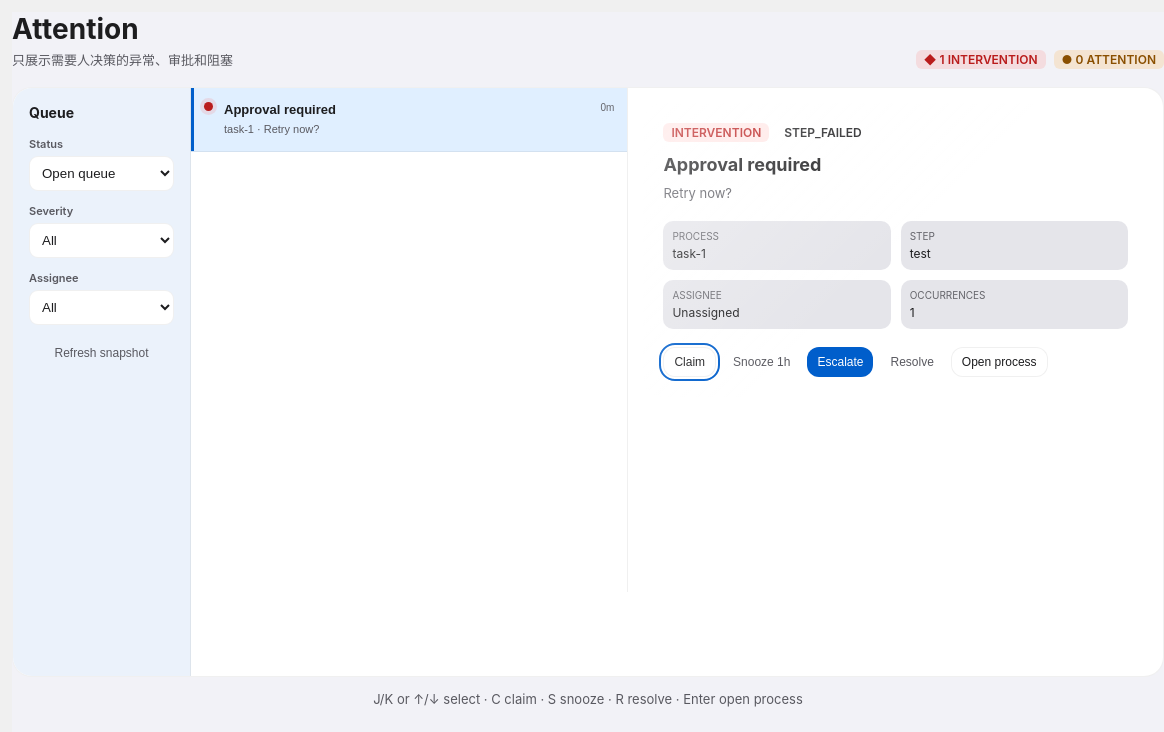
Scenario: AttentionInbox component › keeps a conflict visible while restoring the authoritative item and focus
Expected: the text "Retry now?" is shown, [663, 185, 732, 201]
Click the button "Claim" at (690, 362), box [663, 347, 716, 377]
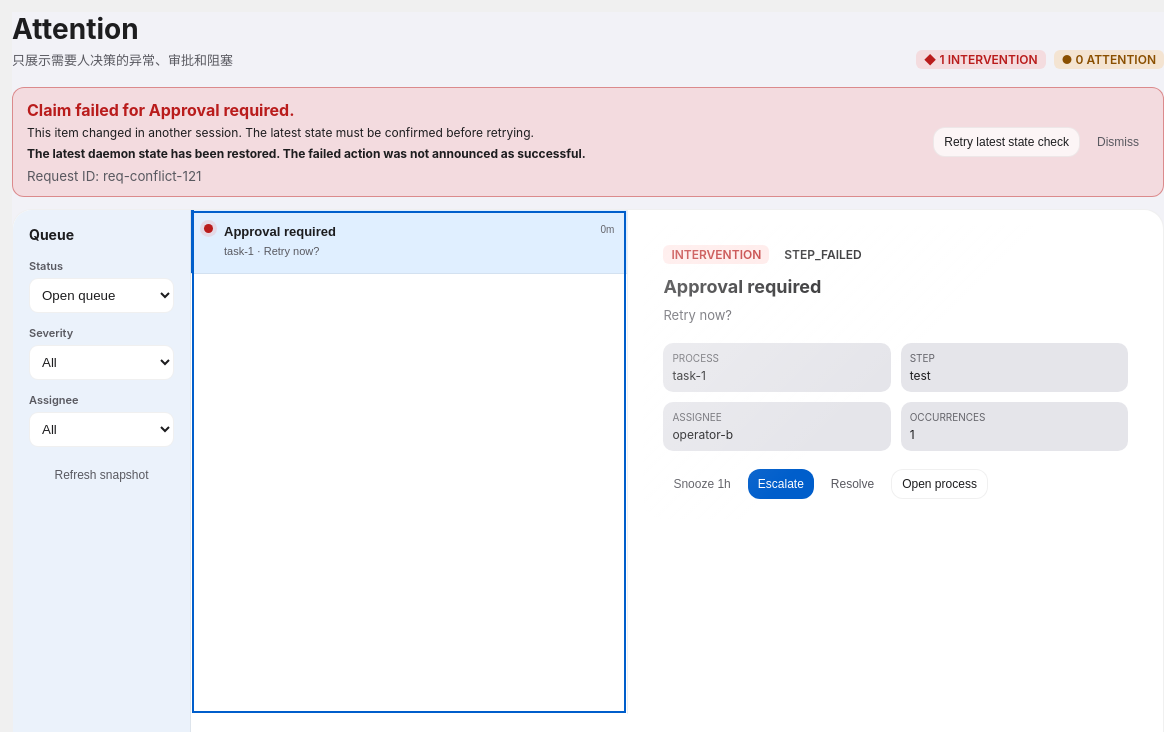
Expected: the message shows "Claim failed for Approval required", [12, 87, 1163, 197]
Expected: the message shows "latest daemon state has been restored", [27, 146, 586, 161]
Expected: the message shows "req-conflict-121", [103, 168, 201, 184]
